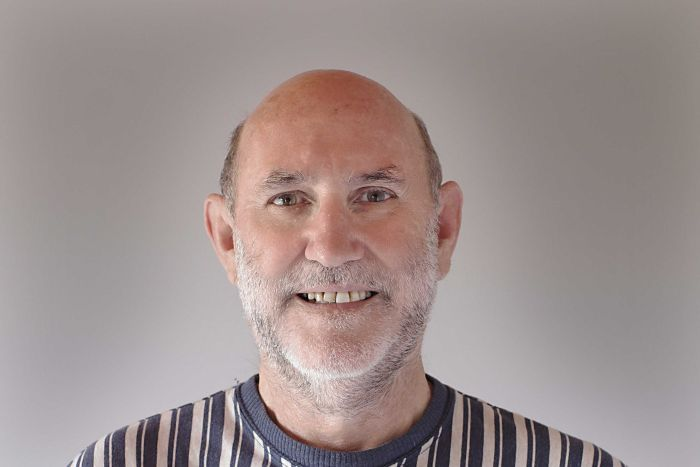bare: (225, 221, 439, 378)
